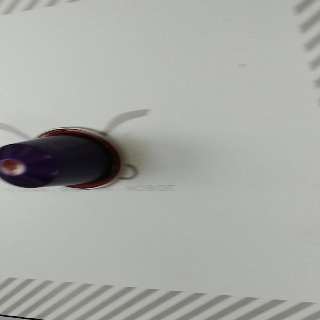capsule_11: (1, 126, 124, 191)
